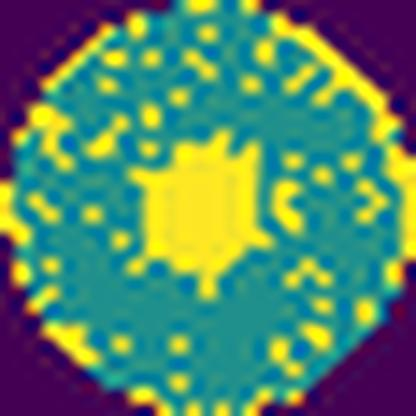Center: (128, 122, 277, 304)
